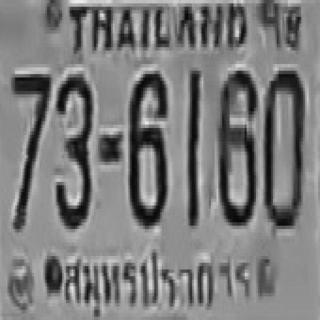N00: (262, 67, 303, 226)
N01: (186, 69, 200, 224)
N03: (54, 71, 91, 226)
N06: (216, 67, 256, 222), (128, 67, 166, 226)
N07: (9, 71, 49, 229)
P57: (60, 245, 253, 317)
